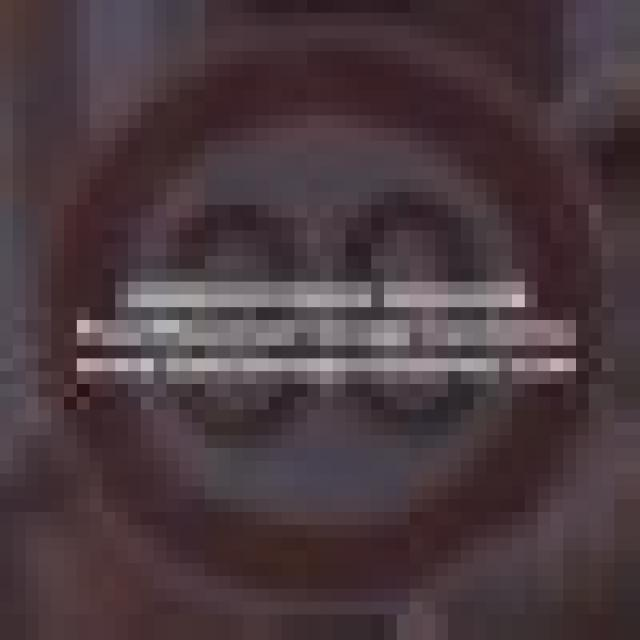SPEED_LIMIT_30: (51, 26, 576, 550)
